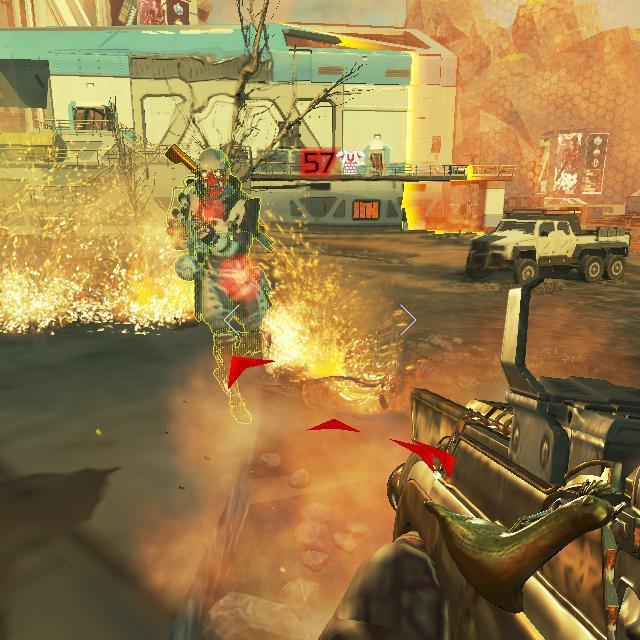avatar: (166, 145, 265, 427)
object: (217, 254, 262, 302)
